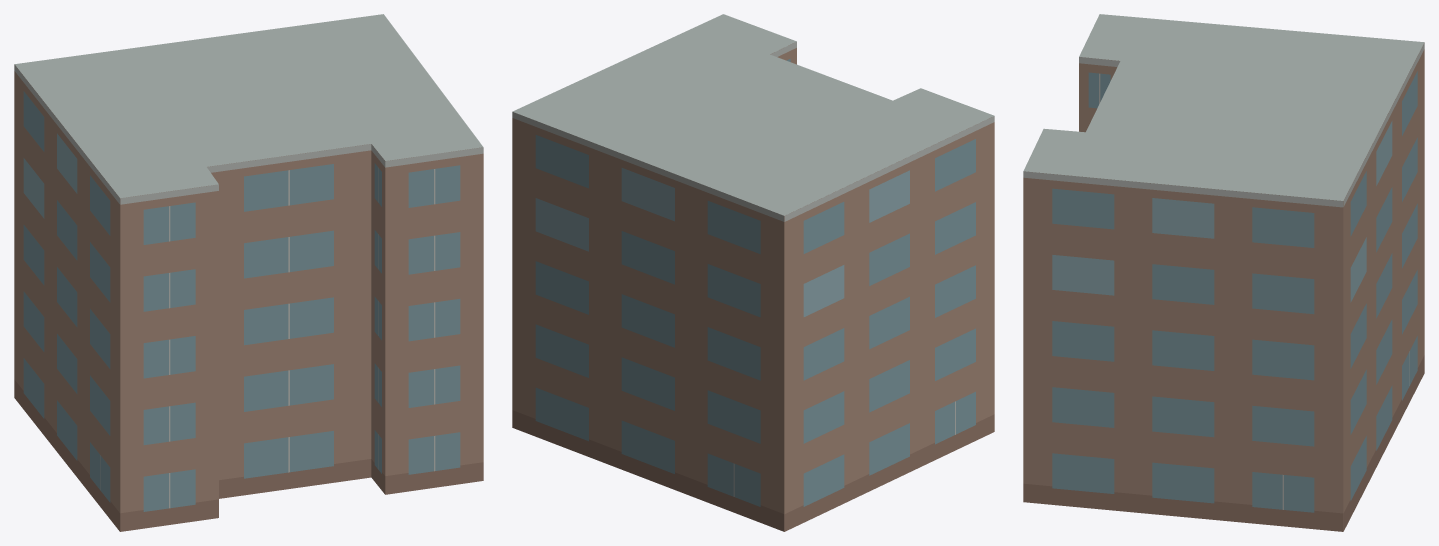
Rendered from survey-upis-32652861.glb.
3 renders of one model, left to right at view 1: azimuth 30°, elevation 25°; view 2: azimuth 150°, elevation 25°; view 3: azimuth 270°, elevation 25°, orthographic. The views are drawn at different scales.
Parts seen in each view (by area): view 1: survey-upis-32652861.tmp; view 2: survey-upis-32652861.tmp; view 3: survey-upis-32652861.tmp.
Part boxes in pixels (bbox=[...]): survey-upis-32652861.tmp: bbox=[14, 14, 483, 531]; survey-upis-32652861.tmp: bbox=[512, 14, 994, 531]; survey-upis-32652861.tmp: bbox=[1023, 14, 1424, 531].
Bounding box in the file's own units: 15.16 × 12.5 × 13.75.
